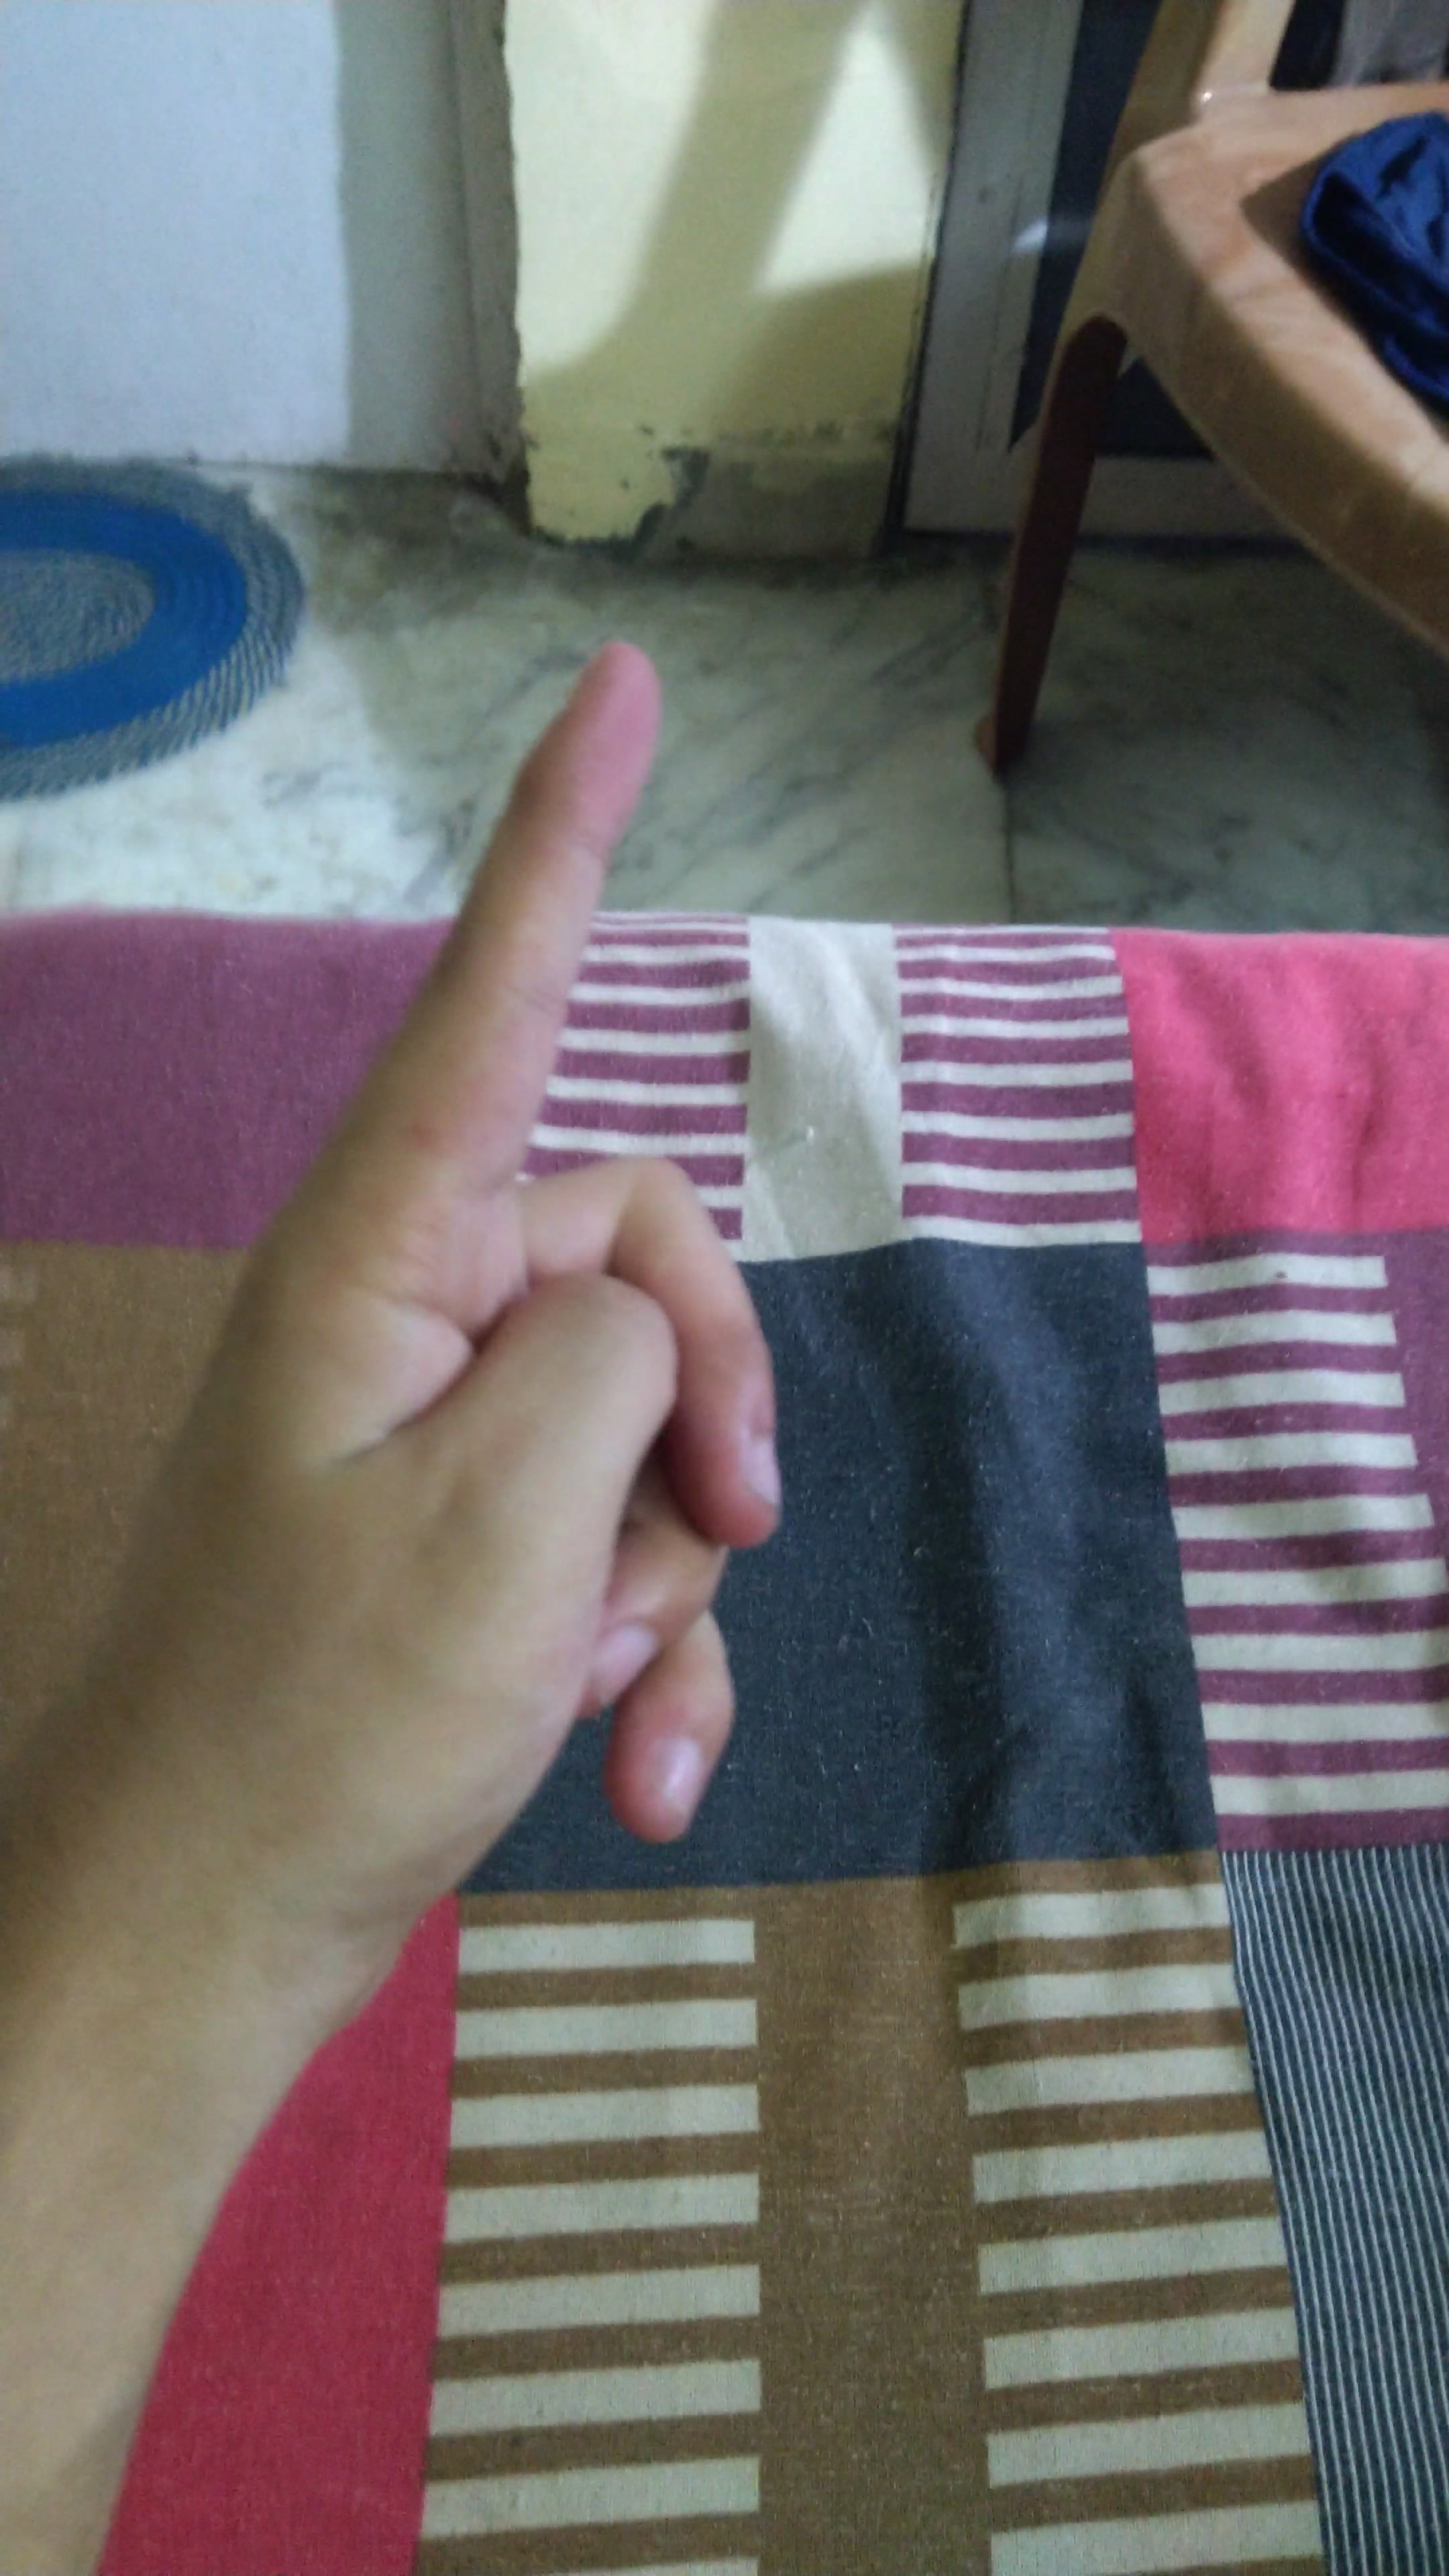hand: (80, 614, 890, 2031)
